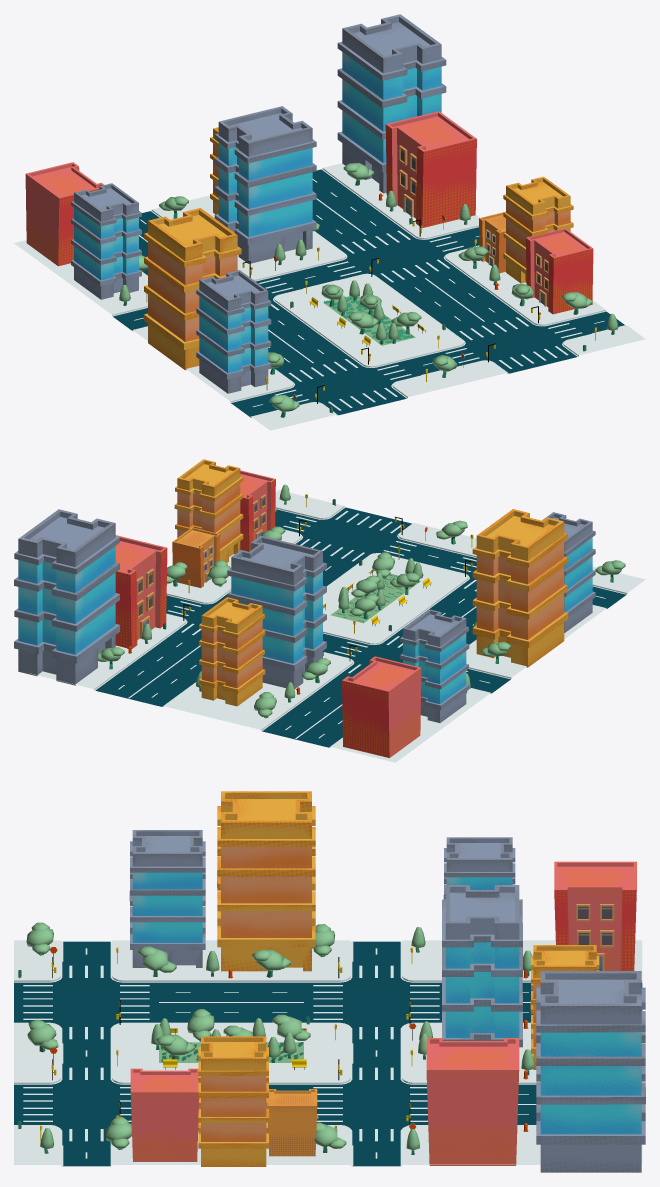
Rendered from Street 1.fbx.
The picture shows the model from 3 angles, top to bottom: view 1: azimuth 30°, elevation 25°; view 2: azimuth 150°, elevation 25°; view 3: azimuth 270°, elevation 25°; orthographic projection. The views are drawn at different scales.
Visible parts, largest first — view 1: Street, Edificios2, Edifcios1; view 2: Street, Edifcios1, Edificios2; view 3: Street, Edifcios1, Edificios2.
Part boxes in pixels (x1,y1,x2,y2): Street: [14, 163, 645, 430]; Edificios2: [71, 14, 505, 393]; Edifcios1: [25, 111, 593, 370]; Street: [30, 484, 645, 762]; Edifcios1: [115, 459, 568, 757]; Edificios2: [14, 509, 595, 722]; Street: [14, 922, 642, 1166]; Edifcios1: [130, 791, 636, 1166]; Edificios2: [129, 830, 645, 1172].
Size of the model in its own units: 45.96 by 15.26 by 52.31.
